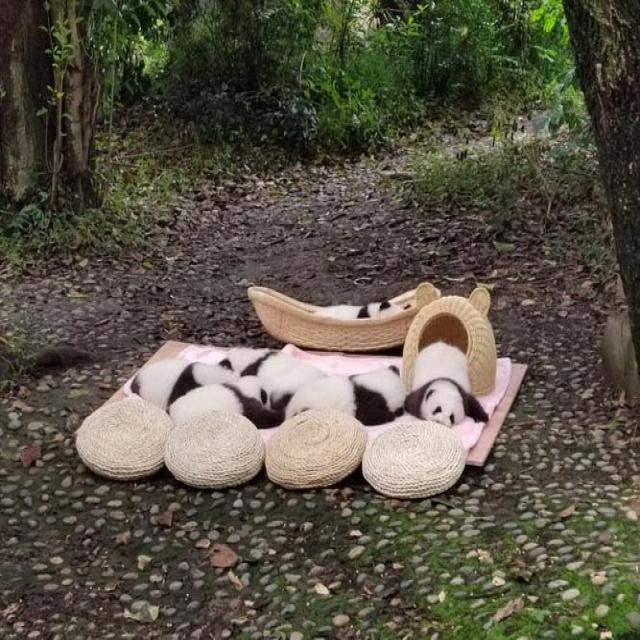panda: (125, 301, 501, 432)
